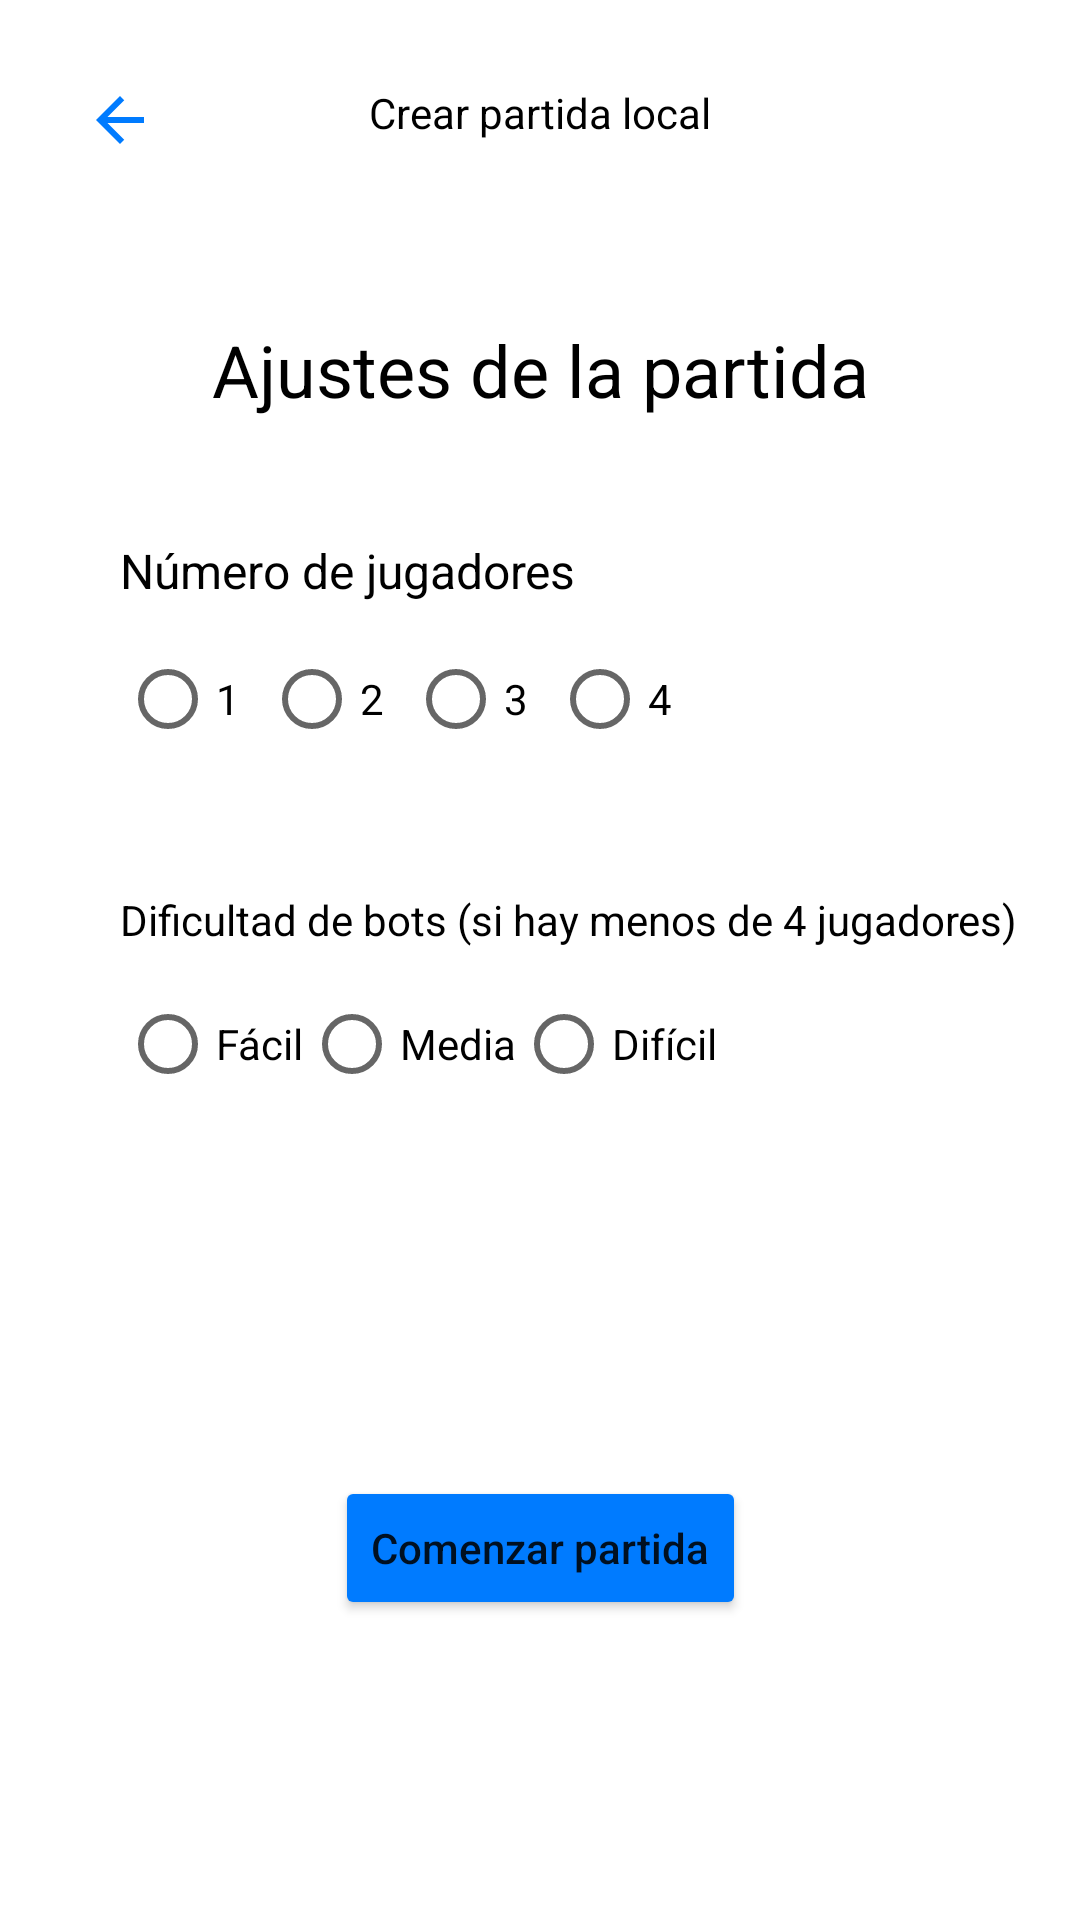

Icons on this 1080x1920 Android screen, each with its box as detection(x1, y1, x2, y2):
boton volver desde settings: detection(96, 96, 144, 144)
